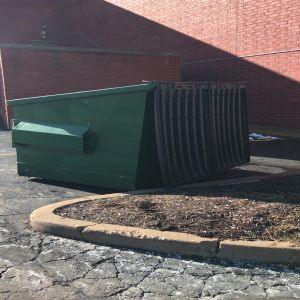Dumpster: (5, 79, 256, 184)
